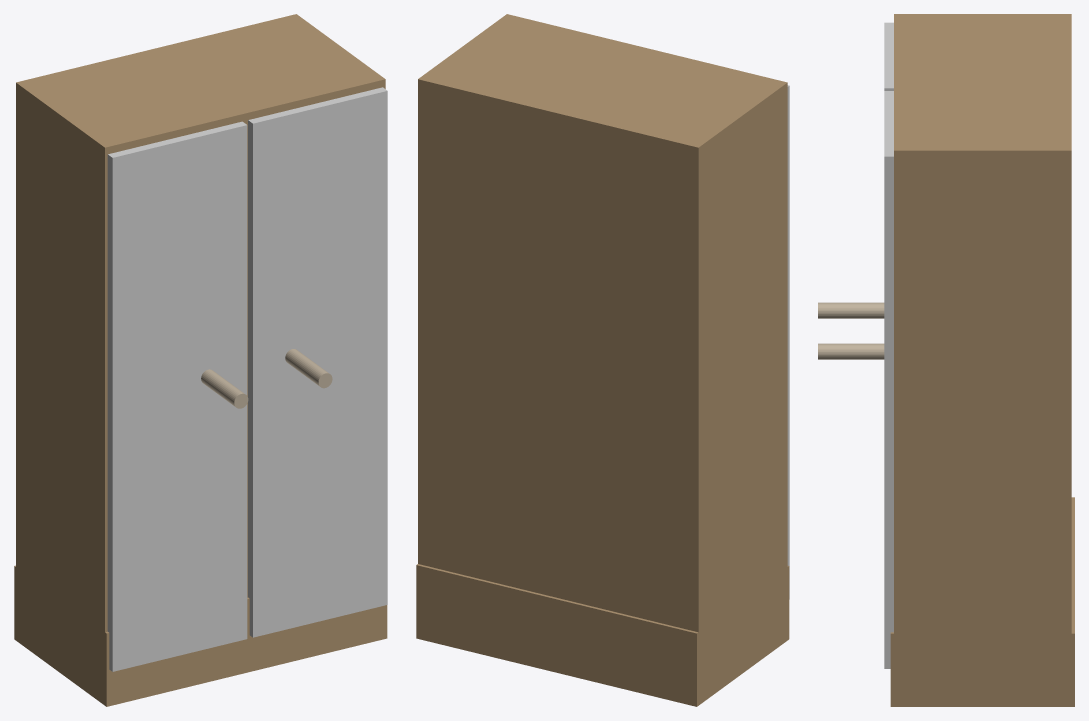
File: modern_almirah_model.glb
The picture shows the model from 3 angles, left to right: view 1: azimuth 30°, elevation 25°; view 2: azimuth 150°, elevation 25°; view 3: azimuth 270°, elevation 25°; orthographic projection.
Visible parts, largest first — view 1: world; view 2: world; view 3: world.
Boxes of the visible parts, x1=… form: world: x1=14, y1=14, x2=387, y2=706; world: x1=416, y1=14, x2=789, y2=706; world: x1=818, y1=14, x2=1074, y2=706.
Size of the model in its own units: 1 by 1.9 by 0.795.
